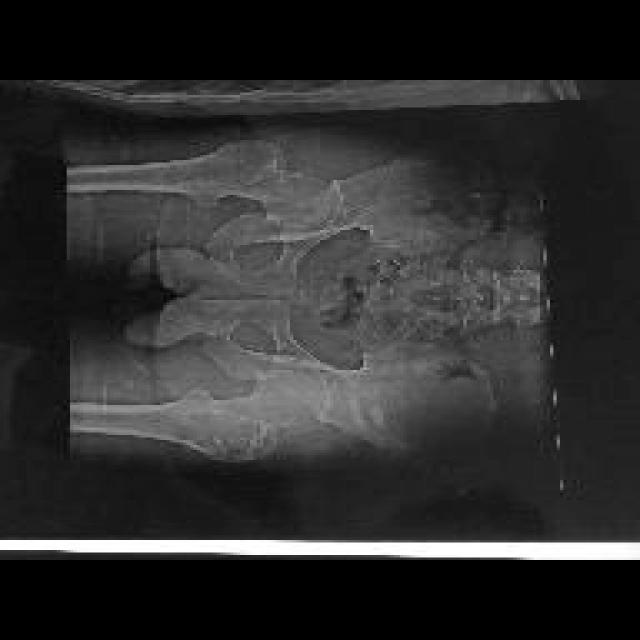bone-cancer: (187, 409, 275, 461)
